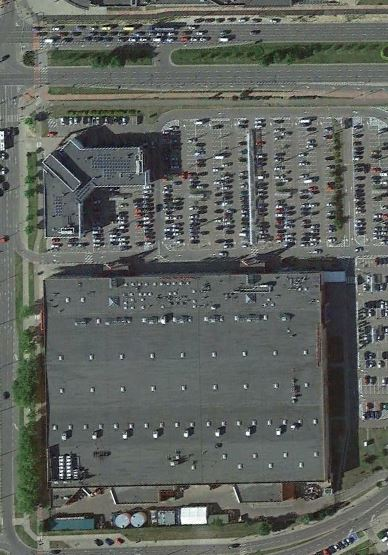block of flats: (37, 127, 156, 245)
shopping_center: (38, 266, 339, 509)
